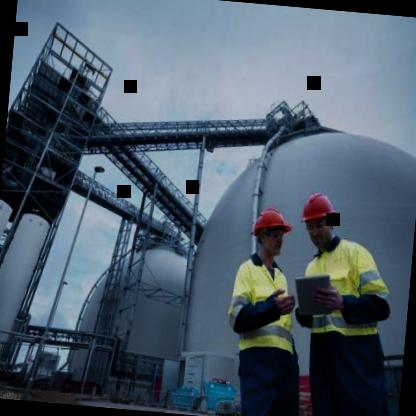helmet: (247, 200, 296, 262), (296, 186, 342, 249)
